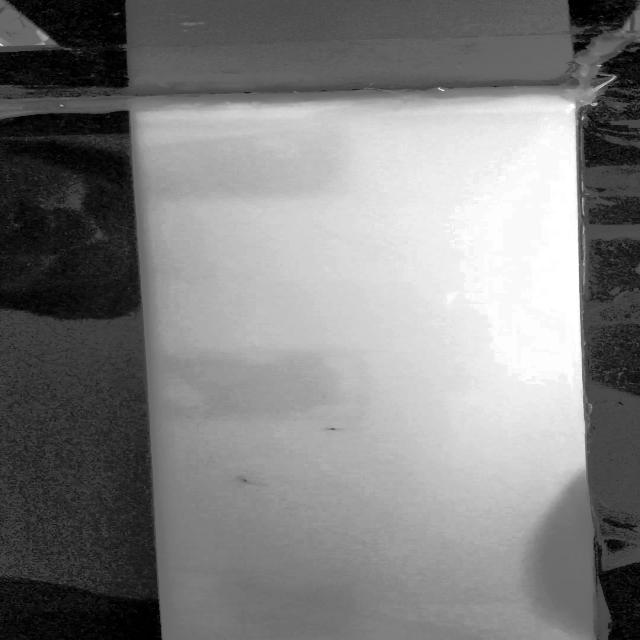shrimp: (308, 421, 359, 441), (233, 475, 260, 493)
